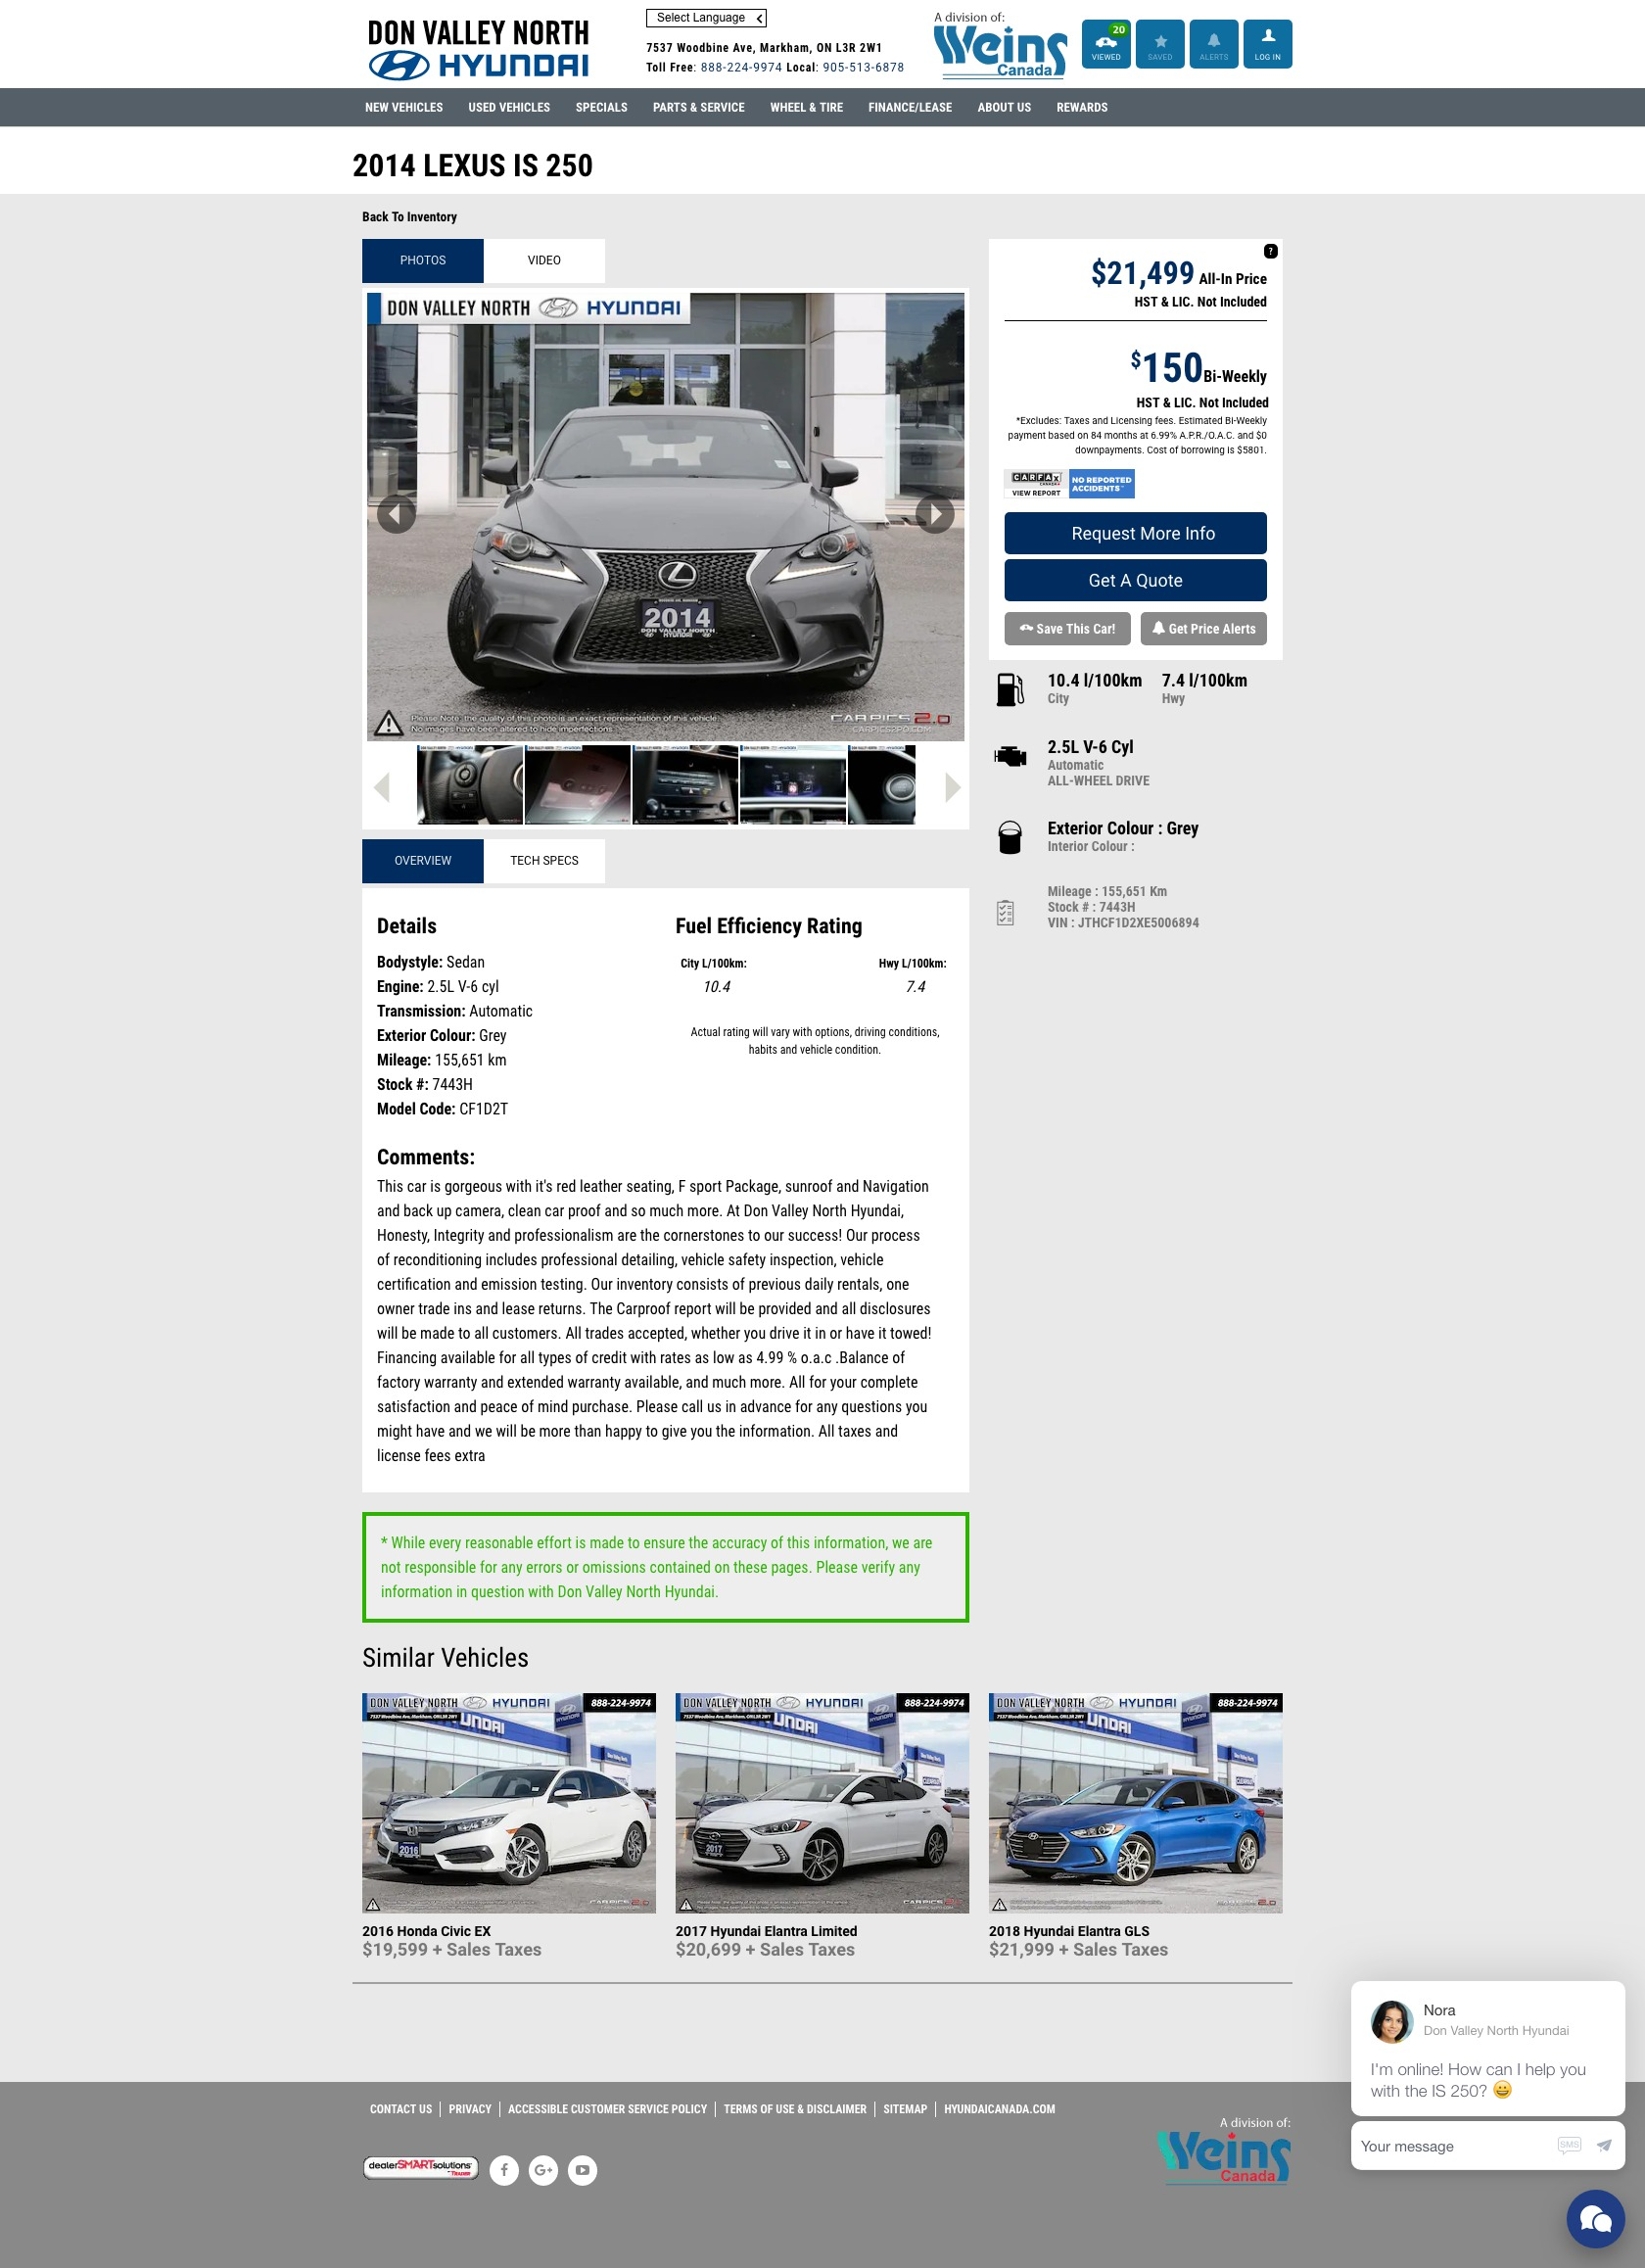car: (944, 771, 963, 805)
